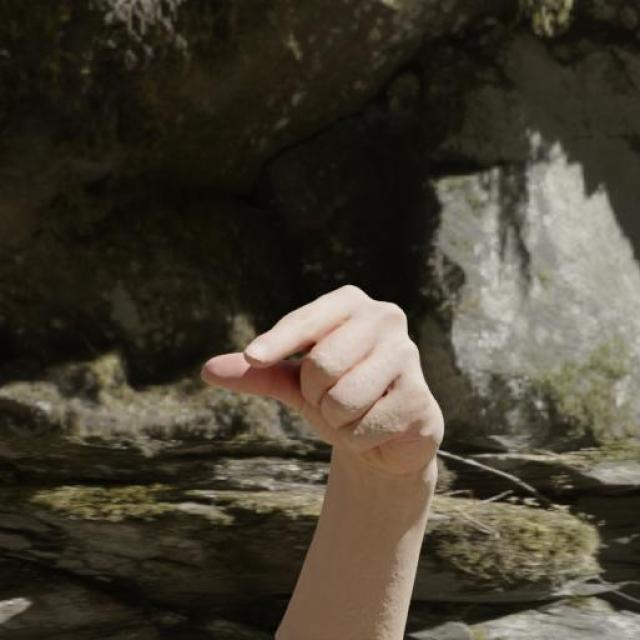G: (200, 280, 449, 488)
